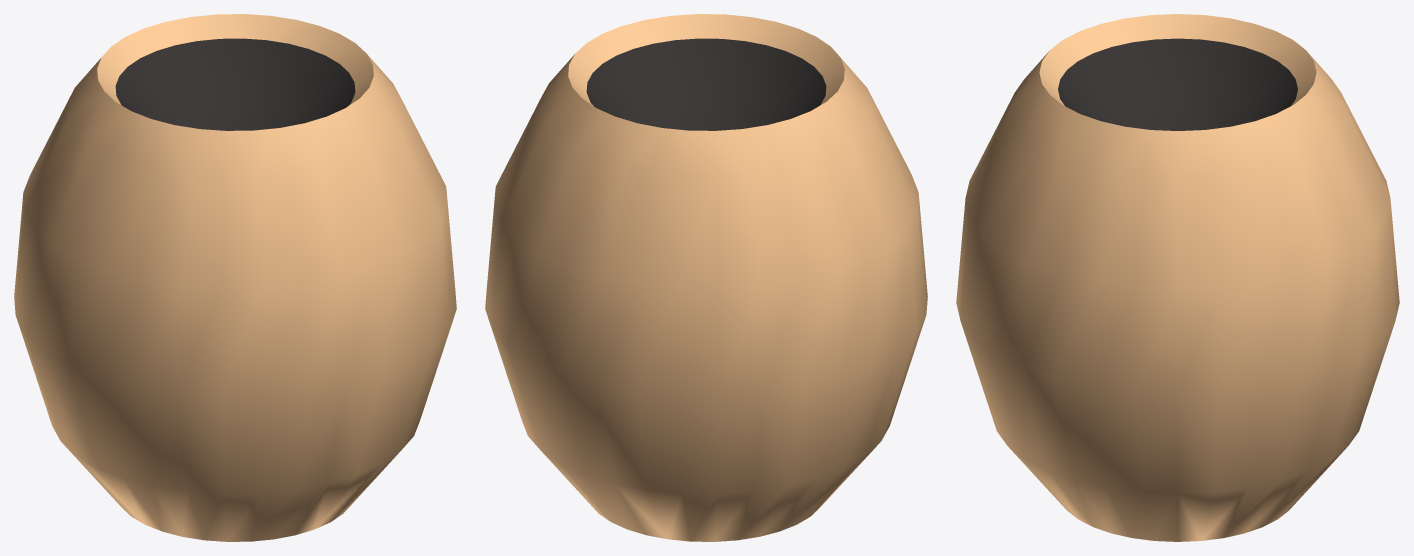
The model's file is lp_table_candle.glb.
3 views of the same model, side by side, from view 1: azimuth 30°, elevation 25°; view 2: azimuth 150°, elevation 25°; view 3: azimuth 270°, elevation 25° (orthographic).
Visible parts, largest first — view 1: lp_table_candle; view 2: lp_table_candle; view 3: lp_table_candle.
Part boxes in pixels (left/top/right/bottom): lp_table_candle: left=14, top=14, right=456, bottom=541; lp_table_candle: left=485, top=14, right=927, bottom=541; lp_table_candle: left=956, top=14, right=1399, bottom=541.
Size of the model in its own units: 0.096 by 0.1 by 0.096.
